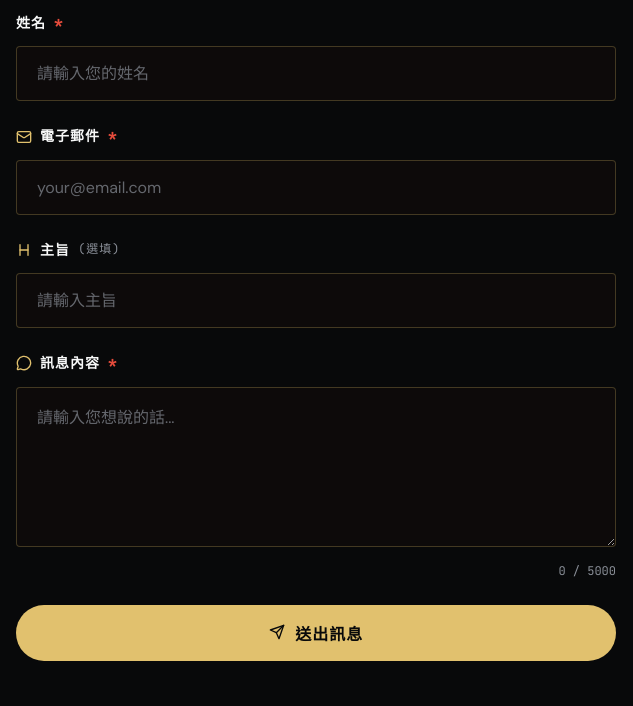
Test case: ContactForm › 表單驗證 › 姓名為空應該顯示錯誤
Type "test@example.com" into the field with id "email".
click(316, 187); type("test@example.com")  # box [16,160,616,215]
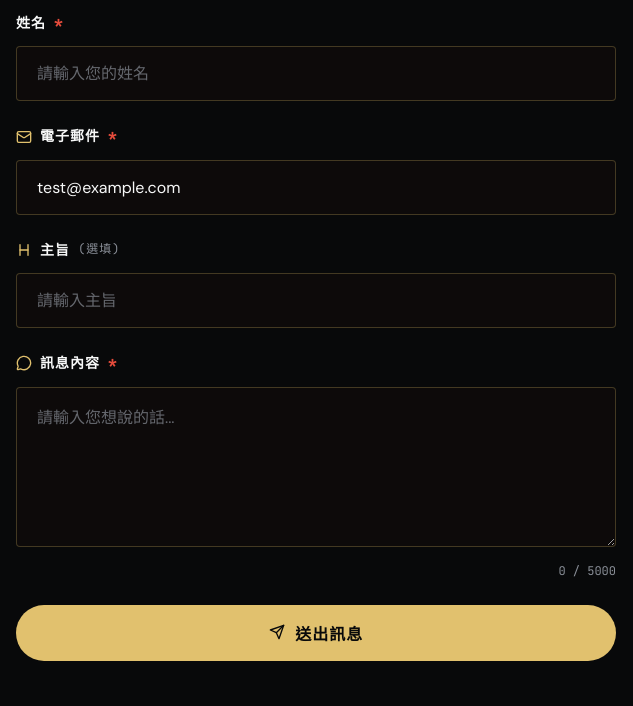
Type "這是一段測試訊息內容" into the text box with id "message".
click(316, 467); type("這是一段測試訊息內容")  # box [16,387,616,547]
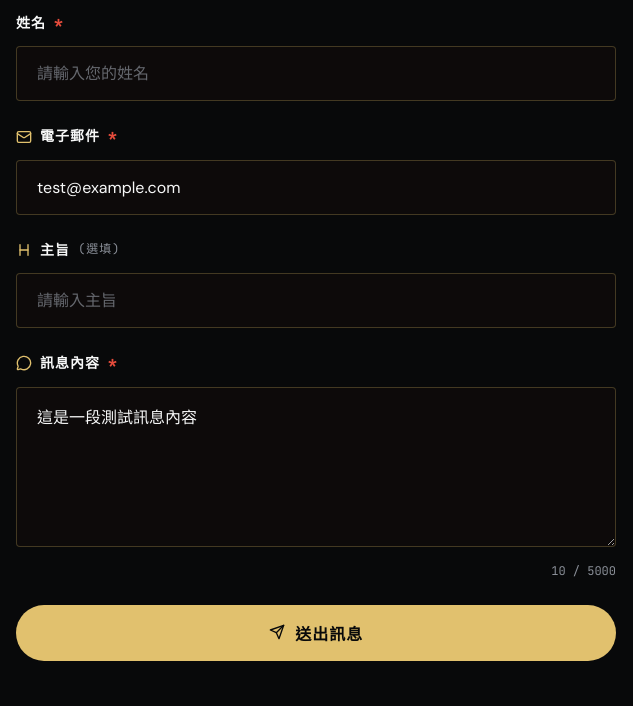
Submit the form
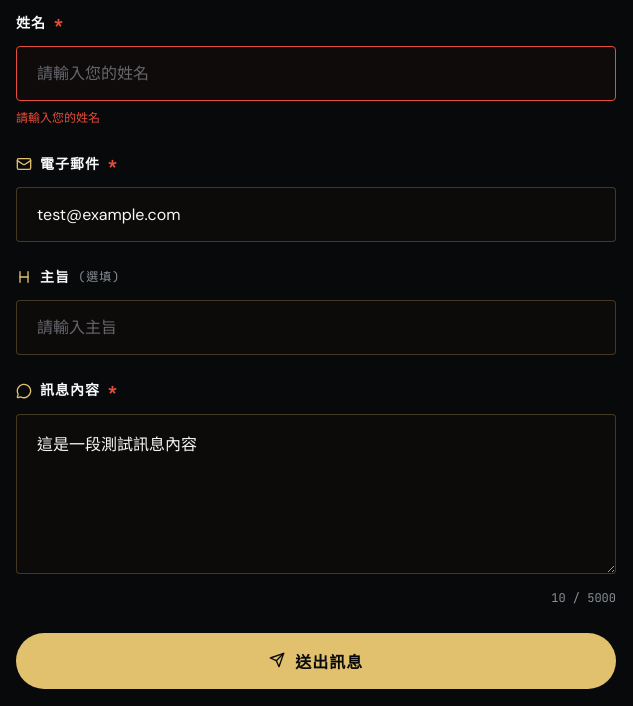
expect the form shows "請輸入您的姓名": met, box [16,110,100,126]
